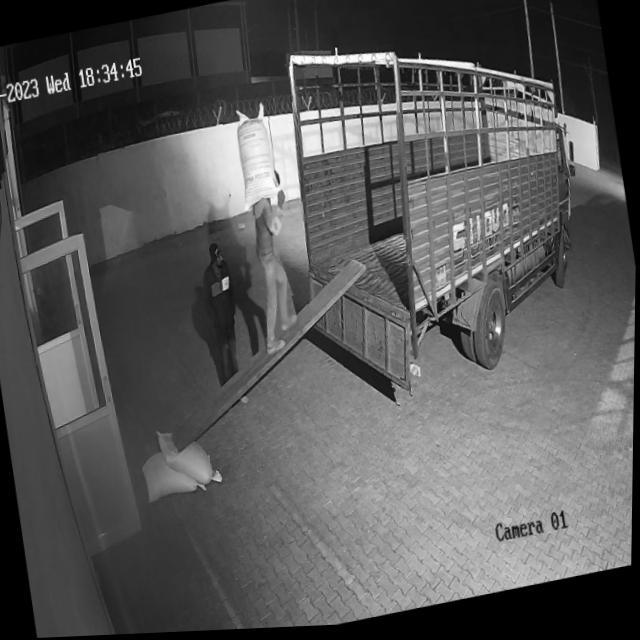sack: (229, 104, 283, 212), (156, 419, 225, 494), (140, 445, 209, 505)
